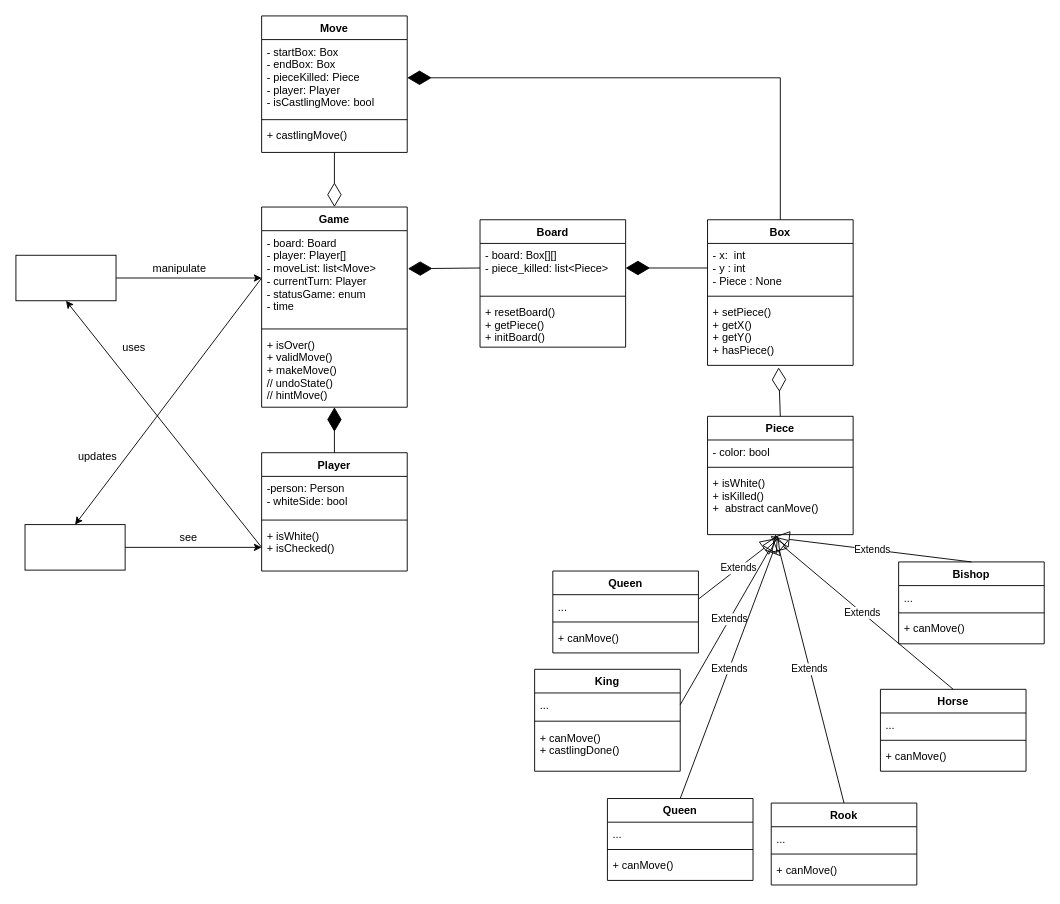
Image size: 1060x904. Some labels were removed from this diagram. The shapes that lost their labels are listed below. From the top down, each one's centre as x and y in pixels, then its label:
At point (65, 277): "GameController - validMove(): bool".
At point (74, 547): "GameView - makeMove(): bool".
